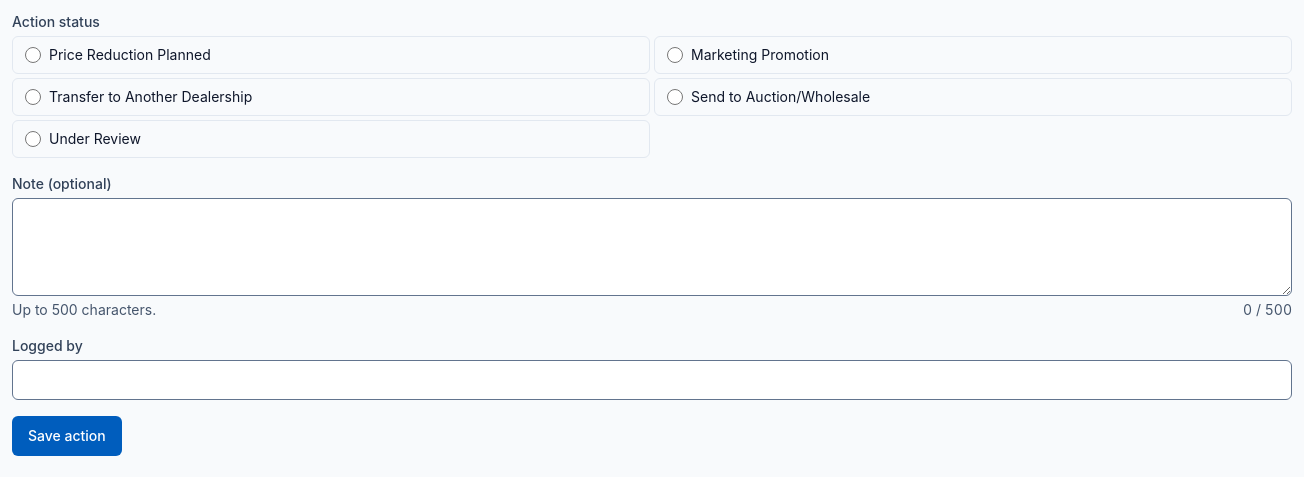
Test: LogActionForm (T-031) › shows the saved (trimmed) name in "Logged by" after a save, ready for the next entry
The image size is (1304, 477).
Click the radio button labelled "Under Review": coordinates (33, 139) [25,131,41,147]
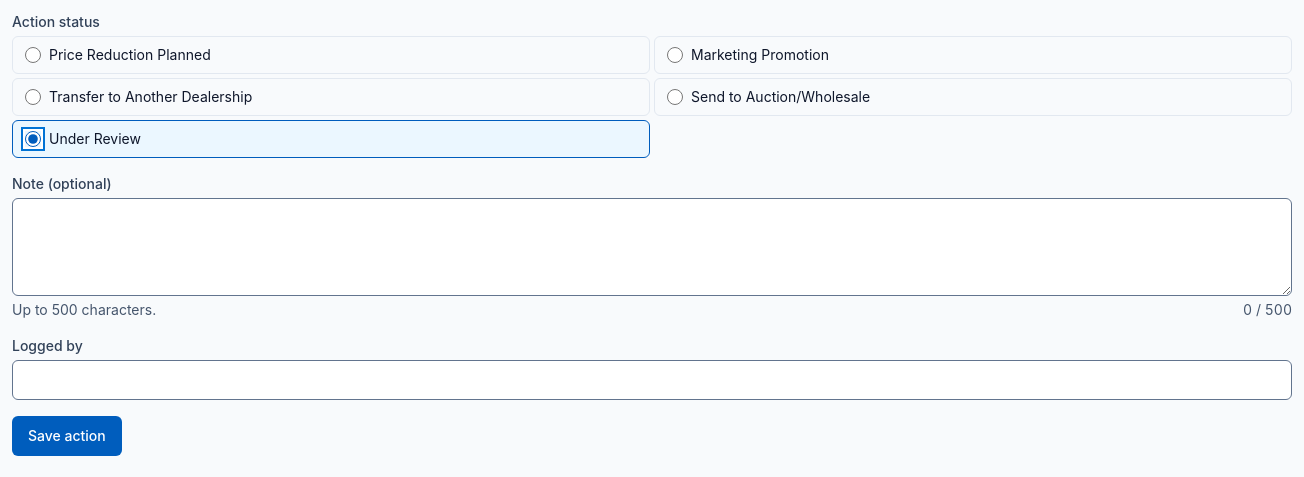
In the field labelled "Logged by": coordinates (652, 380) [12,360,1292,400], type "  Jane "
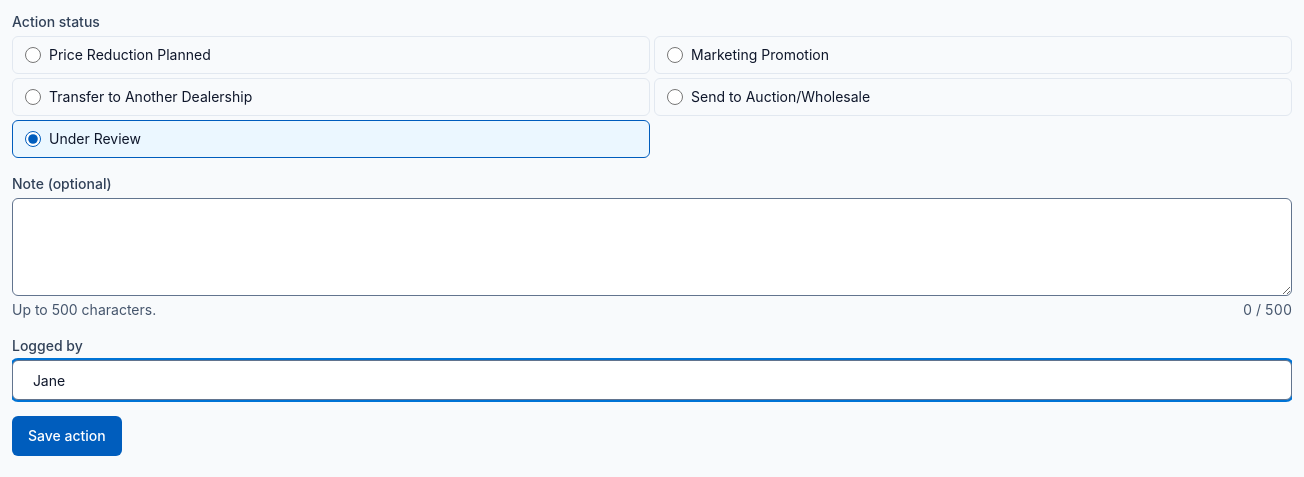
Click the button "Save action": coordinates (67, 436) [12,416,122,456]
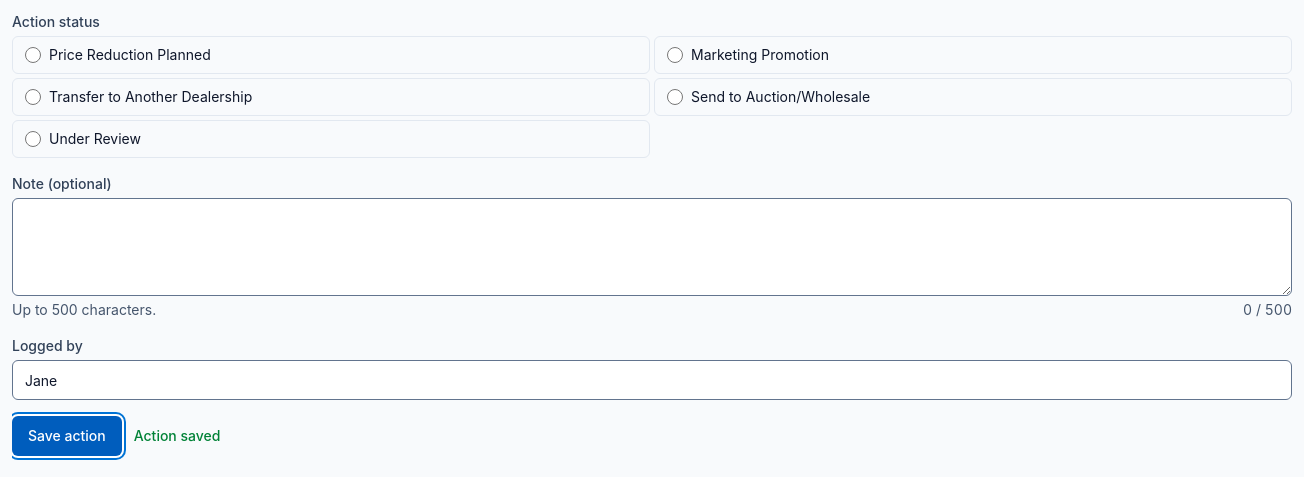
Check: the text "Action saved" is shown, box [134,426,220,446]
